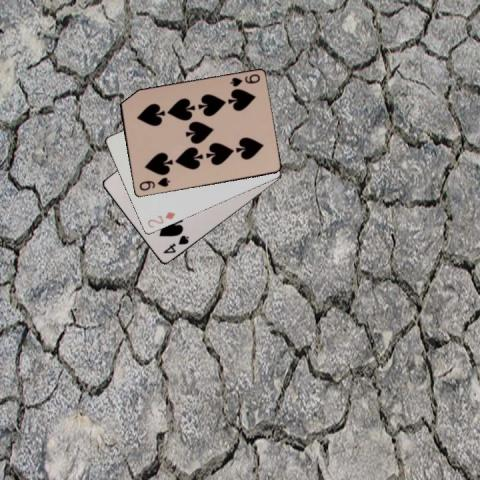2d: (144, 210, 176, 229)
4s: (160, 233, 191, 255)
9s: (136, 175, 171, 192), (227, 71, 261, 88)
